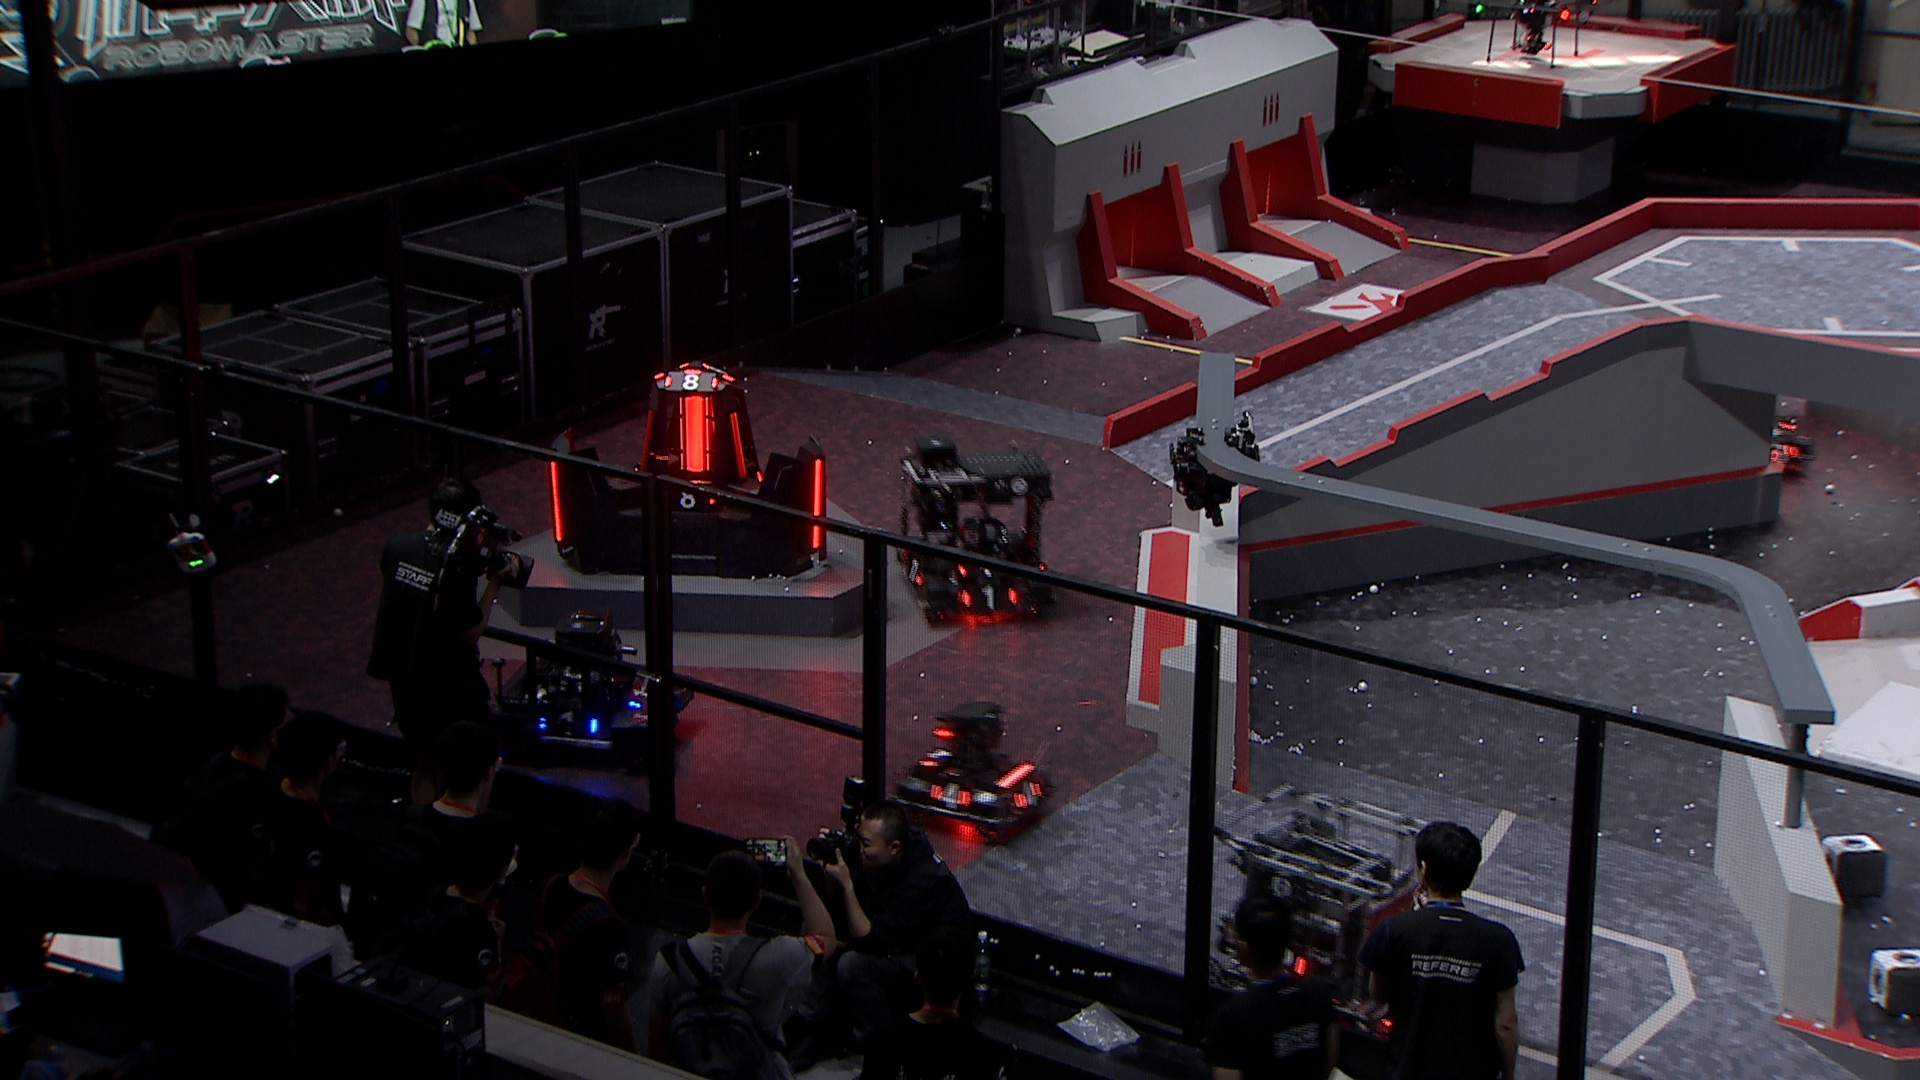armor: (676, 396, 719, 475), (538, 709, 600, 741), (957, 584, 1019, 615), (547, 460, 568, 545), (633, 407, 657, 476), (731, 411, 750, 480), (671, 487, 723, 513), (659, 371, 723, 392), (930, 783, 973, 812), (812, 458, 825, 551), (1276, 949, 1305, 982), (1011, 779, 1044, 807), (1764, 442, 1803, 465), (898, 559, 926, 588), (920, 746, 953, 766), (955, 564, 994, 580), (626, 687, 650, 711)
base: (534, 357, 836, 580)
car: (1207, 781, 1447, 1027), (487, 607, 699, 773), (894, 429, 1060, 632), (887, 698, 1058, 845), (1717, 392, 1817, 481)
watcher: (1168, 413, 1263, 531)
